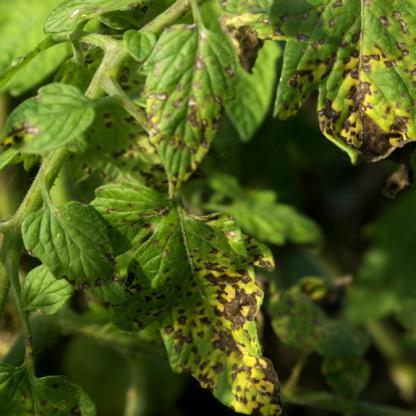tomato septoria leaf spot: (122, 217, 294, 411), (230, 2, 415, 152), (144, 19, 239, 201)
